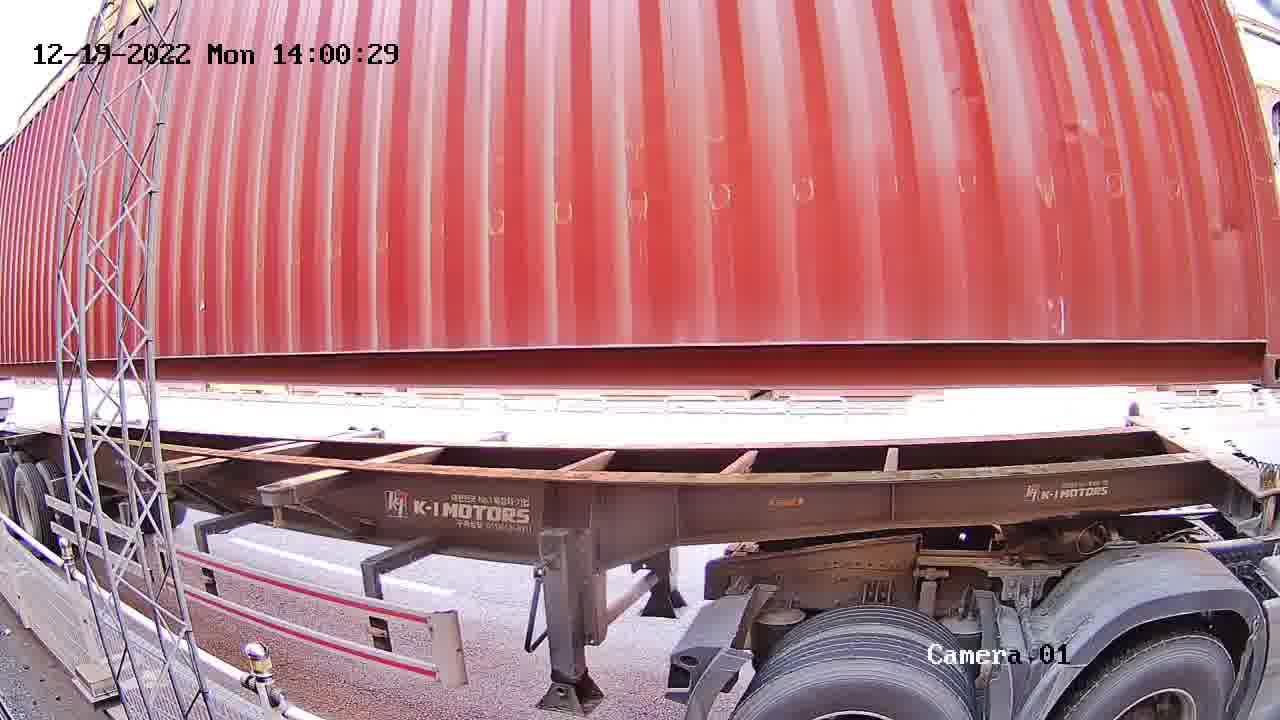Chassis: (1131, 414, 1279, 498)
Cone: (1242, 463, 1279, 538), (1122, 396, 1149, 426)
Hole_R: (1227, 315, 1279, 385)
Tire: (737, 663, 975, 718), (1072, 640, 1236, 713), (13, 472, 44, 540), (0, 459, 13, 518)
